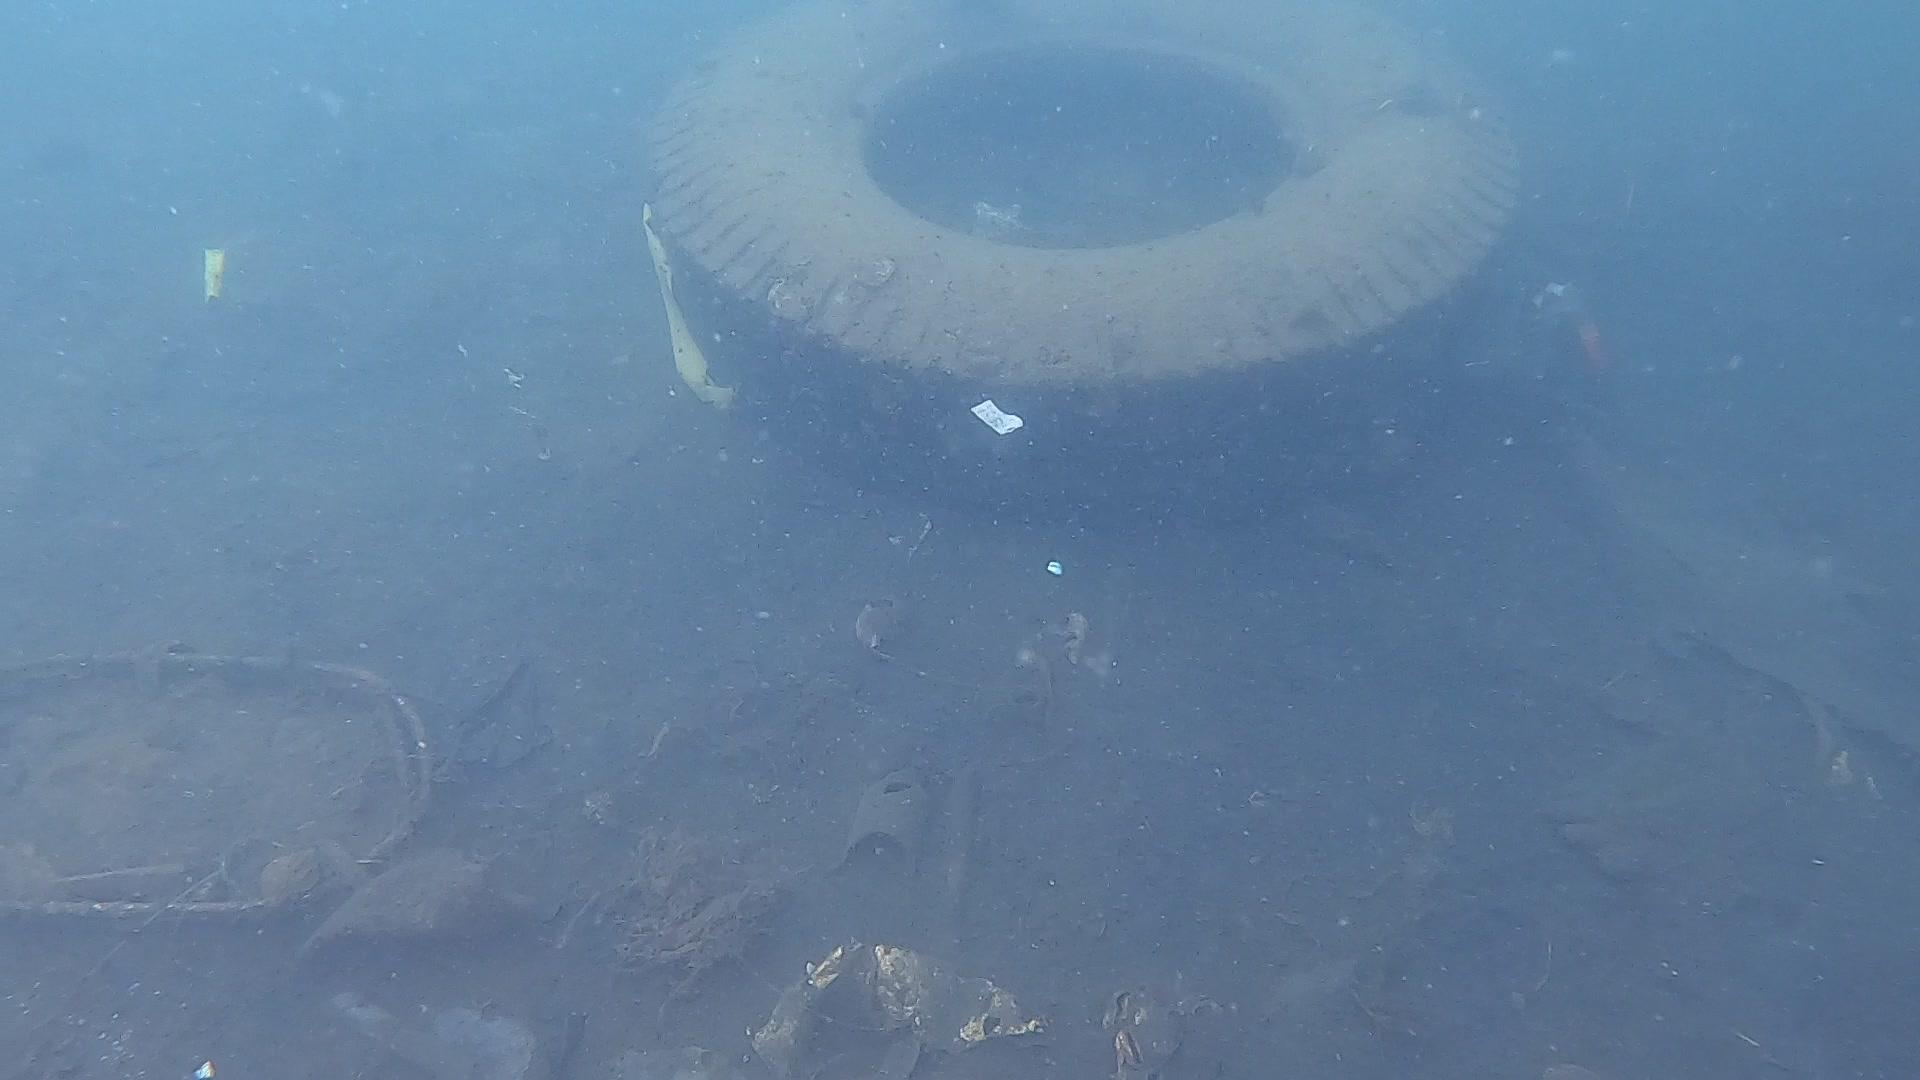tire: (642, 5, 1518, 505)
